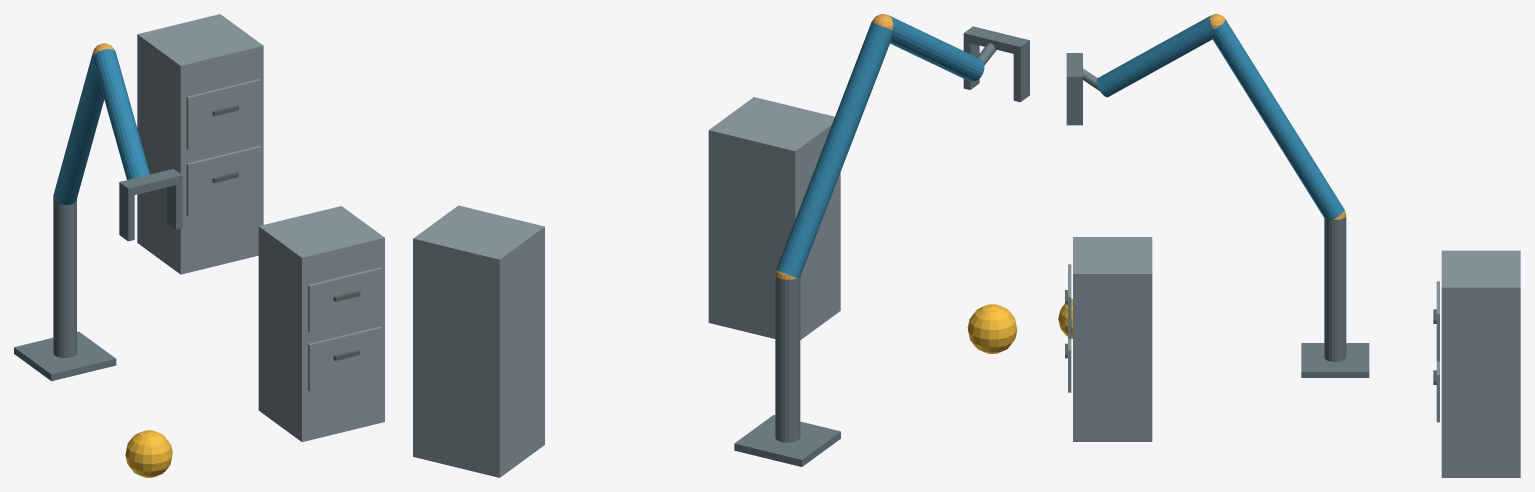
3 renders of one model, left to right at view 1: azimuth 30°, elevation 25°; view 2: azimuth 150°, elevation 25°; view 3: azimuth 270°, elevation 25°, orthographic. The views are drawn at different scales.
Visible parts, largest first — view 1: cabinet_2 body, cabinet_1 body, cabinet_2 drawer front, cabinet_2 drawer front.001, fixed post, cabinet_1 drawer front, cabinet_1 drawer front.001, moving link 2, moving link 1, pedestal, ball ball_1, gripper bridge (+2 smaller); view 2: cabinet_2 body, cabinet_1 body, moving link 1, fixed post, pedestal, moving link 2, ball ball_1, gripper bridge, gripper finger -1; view 3: cabinet_2 body, cabinet_1 body, moving link 1, fixed post, moving link 2, pedestal, gripper finger 1, gripper bridge.
Part boxes in pixels (x1,y1,x2,y2): cabinet_2 body: [137, 14, 263, 274]; cabinet_1 body: [258, 206, 384, 441]; cabinet_2 drawer front: [186, 146, 261, 216]; cabinet_2 drawer front.001: [186, 79, 261, 149]; fixed post: [53, 198, 76, 357]; cabinet_1 drawer front: [308, 326, 382, 391]; cabinet_1 drawer front.001: [308, 267, 382, 332]; moving link 2: [93, 49, 149, 179]; moving link 1: [53, 51, 104, 204]; pedestal: [14, 331, 116, 381]; ball ball_1: [125, 430, 172, 477]; gripper bridge: [119, 169, 182, 196]; cabinet_2 body: [413, 205, 544, 477]; cabinet_1 body: [708, 97, 840, 339]; moving link 1: [776, 22, 892, 278]; fixed post: [775, 275, 800, 442]; pedestal: [734, 415, 840, 466]; moving link 2: [888, 15, 984, 81]; ball ball_1: [967, 304, 1017, 353]; gripper bridge: [963, 26, 1029, 55]; gripper finger -1: [1013, 49, 1029, 102]; cabinet_2 body: [1441, 250, 1520, 477]; cabinet_1 body: [1073, 237, 1152, 441]; moving link 1: [1212, 19, 1344, 220]; fixed post: [1324, 216, 1346, 361]; moving link 2: [1096, 16, 1213, 97]; pedestal: [1301, 343, 1369, 377]; gripper finger 1: [1066, 84, 1082, 125]; gripper bridge: [1066, 53, 1082, 84].
Bounding box in the file's own units: 1.32 × 1.36 × 1.69.
